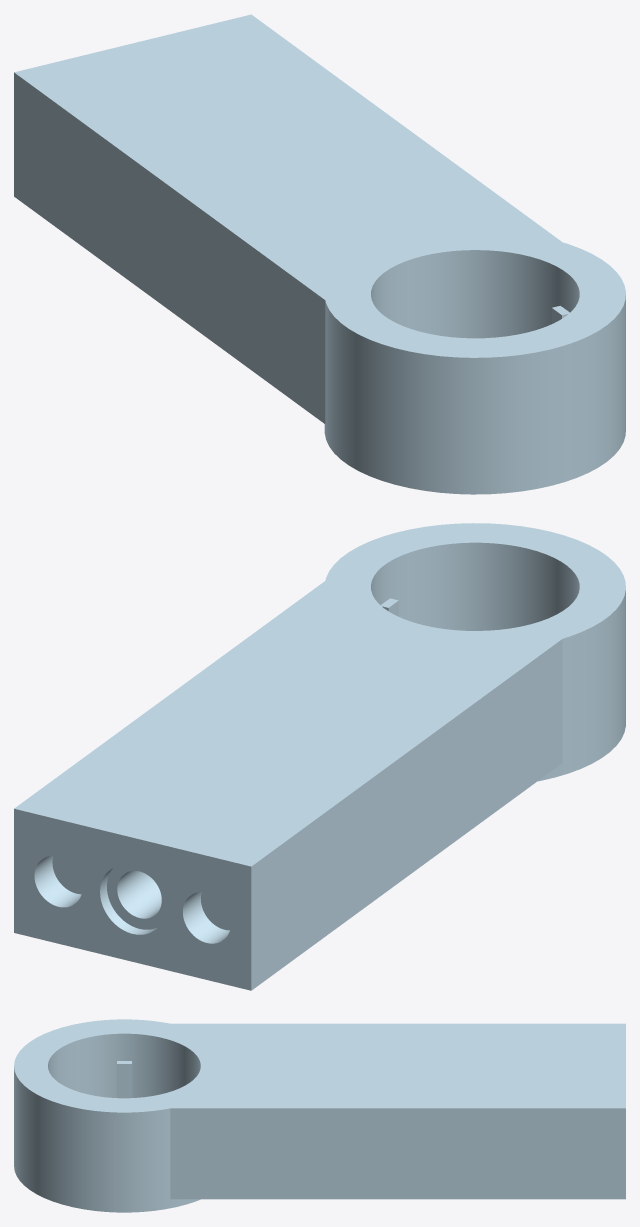
Rendered from HexagonPostThin.gltf.
3 views of the same model, one above another, from view 1: azimuth 30°, elevation 25°; view 2: azimuth 150°, elevation 25°; view 3: azimuth 270°, elevation 25° (orthographic). The views are drawn at different scales.
Parts seen in each view (by area): view 1: Part 1; view 2: Part 1; view 3: Part 1.
Boxes of the visible parts, bbox=[...] form: Part 1: bbox=[14, 14, 625, 494]; Part 1: bbox=[14, 523, 625, 990]; Part 1: bbox=[14, 1019, 625, 1212].
Size of the model in its own units: 0.0439 by 0.022 by 0.122.
